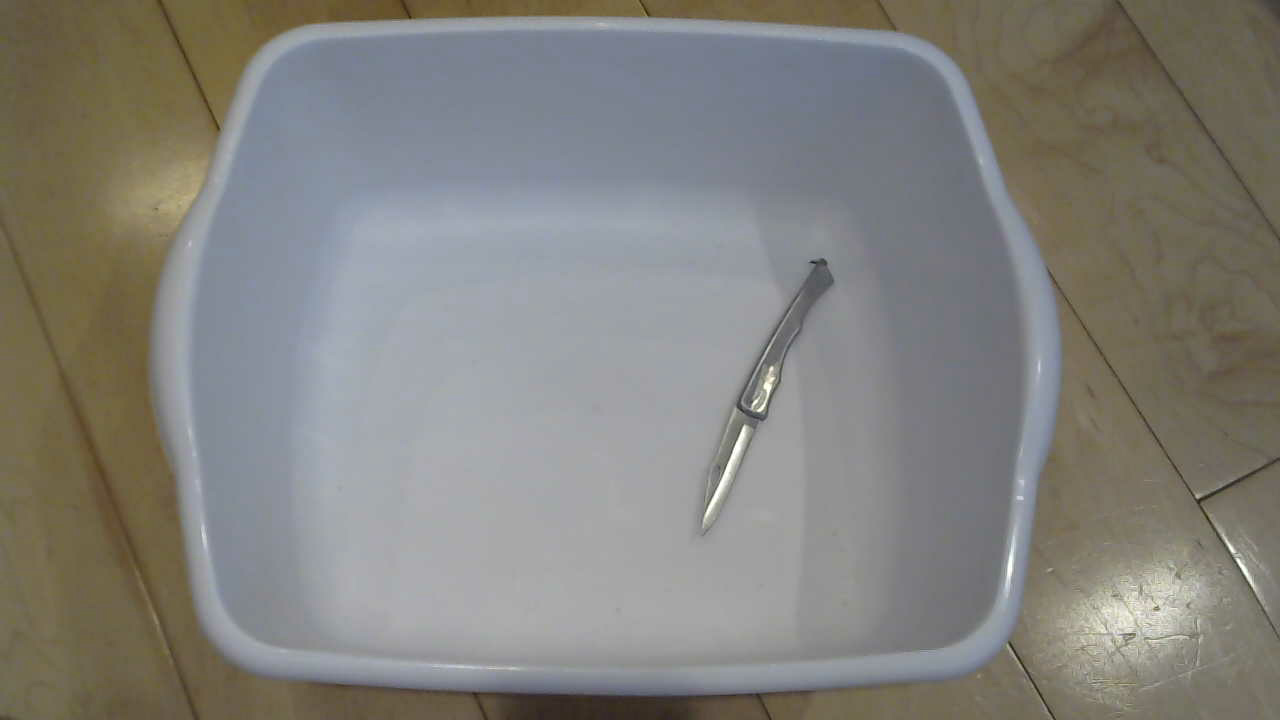knife: (682, 261, 875, 558)
